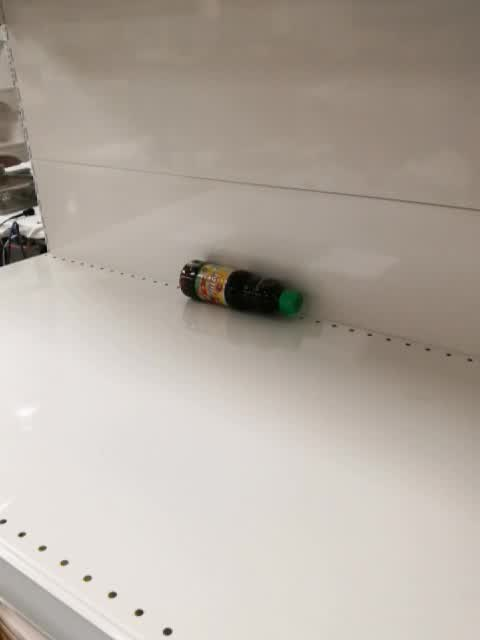cookingoil: (178, 256, 305, 317)
